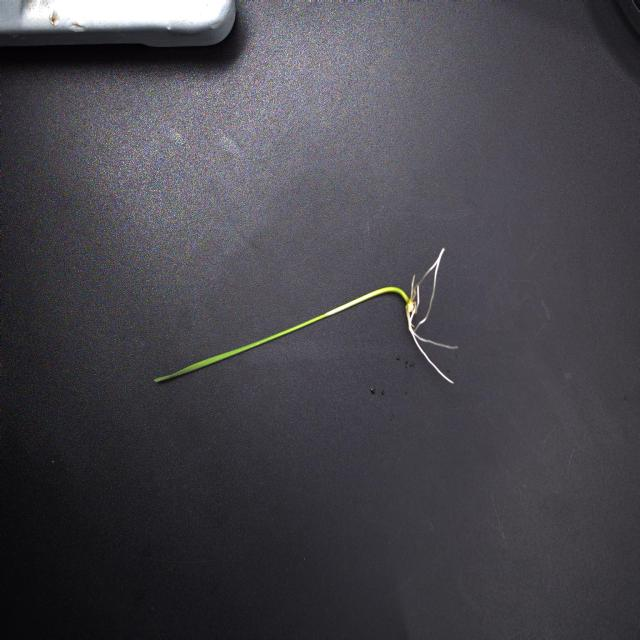root: (406, 248, 458, 368)
stem: (155, 287, 409, 382)
